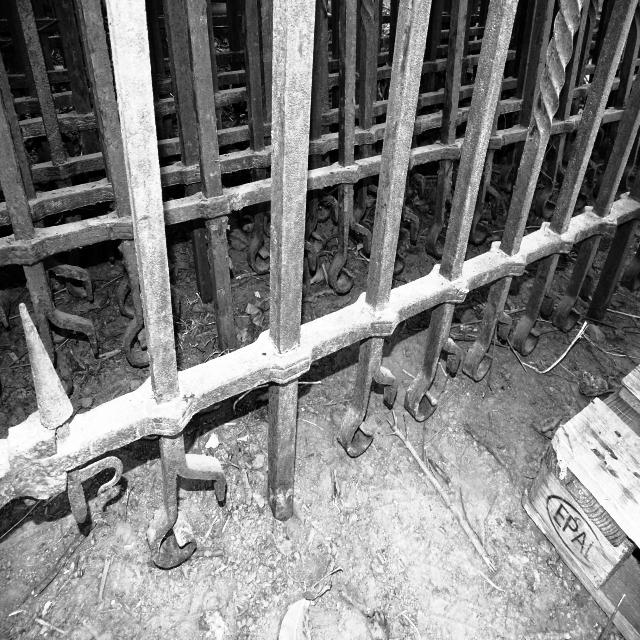fences: (21, 4, 640, 361)
